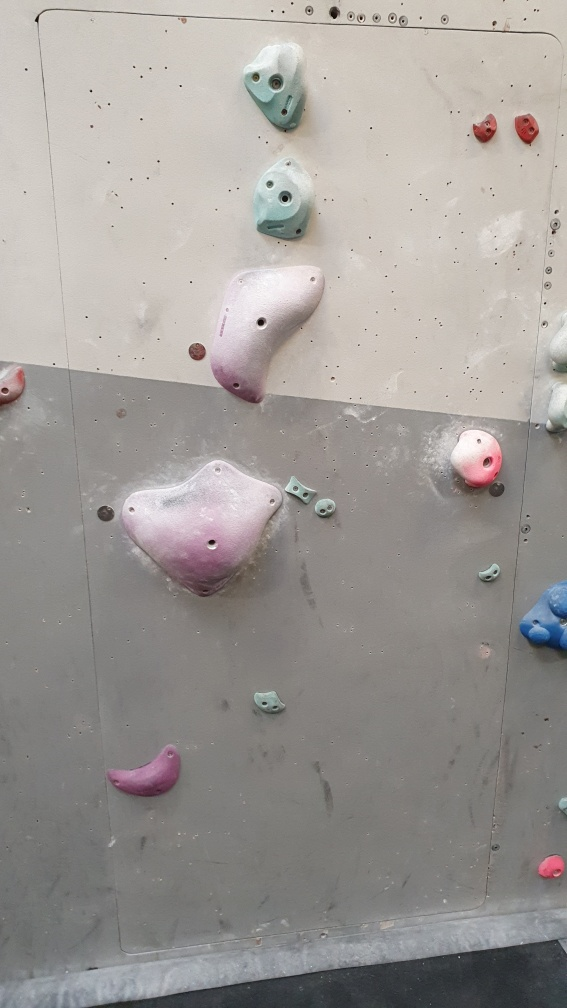Hand Start: (180, 340, 211, 368), (93, 498, 117, 527), (485, 477, 509, 502)
Jug: (238, 43, 319, 132), (248, 151, 321, 248)
Pinch: (278, 472, 321, 505), (476, 559, 503, 588)
Sloper: (514, 573, 567, 658)
